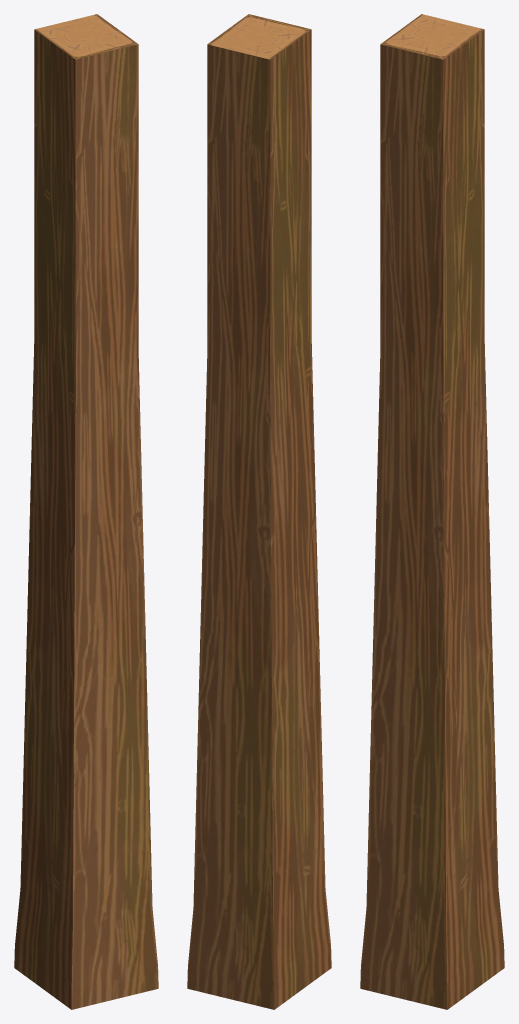
Rendered from Corner_ExteriorWide_Wood.glb.
3 renders of one model, left to right at view 1: azimuth 30°, elevation 25°; view 2: azimuth 150°, elevation 25°; view 3: azimuth 330°, elevation 25°, orthographic.
Visible parts, largest first — view 1: Corner_ExteriorWide_Wood; view 2: Corner_ExteriorWide_Wood; view 3: Corner_ExteriorWide_Wood.
Boxes of the visible parts, x1,y1,x2,y2 form: Corner_ExteriorWide_Wood: (14,14,158,1009); Corner_ExteriorWide_Wood: (187,14,331,1009); Corner_ExteriorWide_Wood: (360,14,504,1009).
Size of the model in its own units: 0.2904 by 3 by 0.3311.
1 material, 1 textured.
